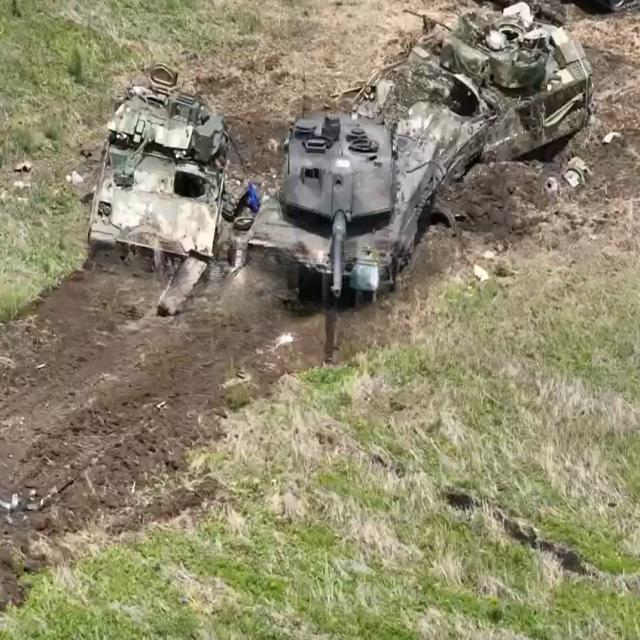AIFV: (350, 6, 595, 171), (83, 66, 232, 268)
MBT: (244, 114, 442, 303)
